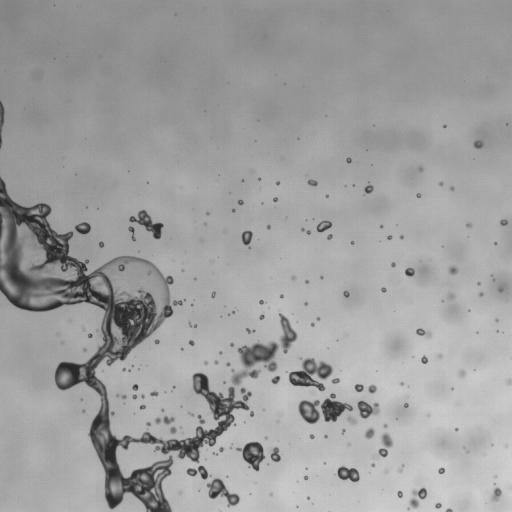droplet: (288, 358, 333, 391), (206, 478, 239, 506), (236, 441, 265, 471), (357, 400, 379, 418), (336, 466, 359, 482), (241, 230, 252, 247), (316, 220, 331, 232), (75, 222, 90, 234), (269, 447, 280, 461), (491, 487, 501, 501), (364, 427, 374, 439), (364, 183, 373, 193), (346, 415, 356, 424), (405, 267, 414, 276), (368, 384, 377, 393), (473, 140, 483, 148), (448, 266, 458, 274), (271, 376, 280, 384), (307, 179, 317, 186), (354, 384, 363, 391), (458, 369, 465, 377), (500, 219, 507, 225), (421, 356, 427, 363), (170, 426, 176, 433), (438, 467, 444, 474), (246, 328, 254, 333), (331, 378, 339, 383), (150, 391, 158, 396), (343, 291, 349, 297), (435, 502, 441, 508), (398, 465, 403, 472), (346, 157, 351, 163), (237, 200, 243, 205), (132, 384, 137, 390), (139, 404, 145, 409), (397, 491, 402, 497), (327, 234, 332, 239), (381, 287, 386, 292), (449, 293, 454, 298), (259, 314, 264, 319), (189, 340, 194, 345), (309, 434, 314, 439), (219, 447, 224, 452), (99, 241, 103, 247), (445, 508, 452, 511), (273, 197, 277, 202), (466, 223, 471, 227), (391, 262, 395, 267), (211, 292, 215, 297), (259, 300, 264, 304), (154, 339, 159, 343), (507, 379, 511, 384), (132, 394, 136, 399), (188, 412, 193, 416), (146, 422, 151, 426), (419, 167, 423, 171), (450, 186, 454, 190), (416, 193, 420, 197), (388, 235, 392, 239), (479, 292, 483, 296), (88, 333, 92, 337), (438, 354, 442, 358), (214, 360, 218, 364), (226, 362, 230, 366), (404, 403, 408, 407), (341, 429, 345, 433), (304, 475, 308, 479), (250, 411, 253, 416), (439, 182, 443, 185), (267, 225, 270, 229), (291, 276, 295, 279), (498, 288, 502, 291), (189, 324, 193, 327), (213, 452, 217, 455), (508, 485, 511, 489), (276, 181, 279, 184), (400, 235, 403, 238), (311, 323, 314, 326), (230, 343, 233, 346), (204, 361, 207, 364), (400, 382, 403, 385), (141, 394, 144, 397), (384, 424, 387, 427), (455, 428, 458, 431), (385, 470, 388, 473), (371, 464, 375, 466), (325, 195, 328, 197), (232, 209, 235, 211), (380, 225, 383, 227), (351, 241, 353, 244), (306, 280, 308, 283), (280, 295, 283, 297), (317, 317, 319, 320), (495, 319, 498, 321), (82, 327, 84, 330), (161, 409, 164, 411), (82, 410, 85, 412), (324, 435, 327, 437), (207, 212, 209, 214), (478, 282, 480, 284), (312, 391, 314, 393), (307, 496, 309, 498)
ligament: (0, 177, 296, 511), (298, 393, 352, 423), (129, 210, 163, 239), (407, 487, 426, 510), (377, 433, 393, 457), (186, 465, 209, 479), (0, 101, 4, 147), (155, 416, 174, 424), (416, 328, 431, 338), (128, 226, 135, 240), (301, 228, 310, 234), (116, 394, 126, 399)
